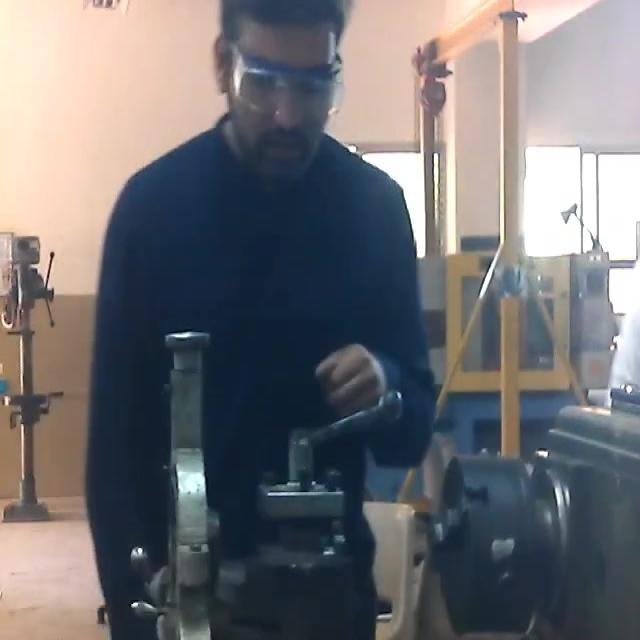googles: (232, 47, 346, 125)
